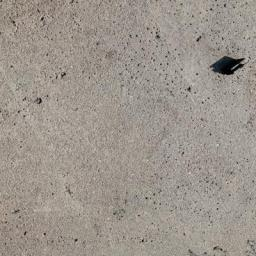FOD: (208, 51, 251, 79)
